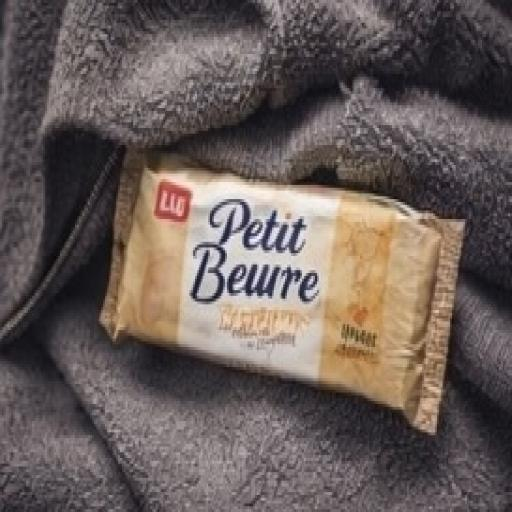petit_beurre: (77, 94, 474, 468)
